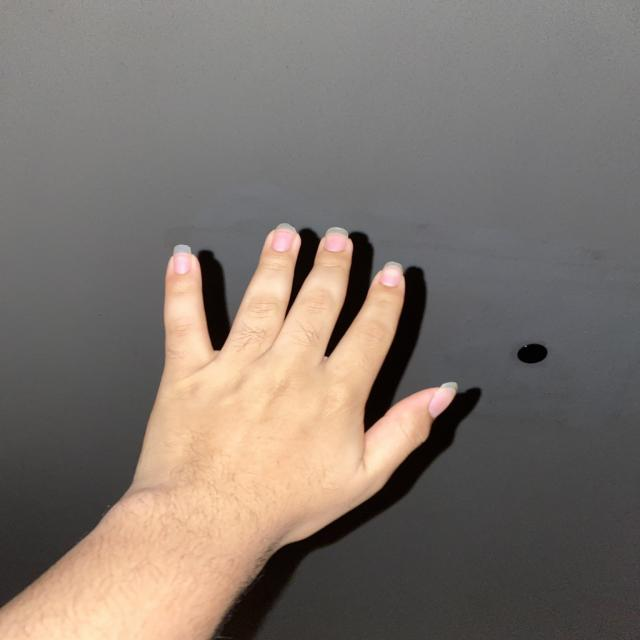bare_hand: (104, 223, 456, 559)
